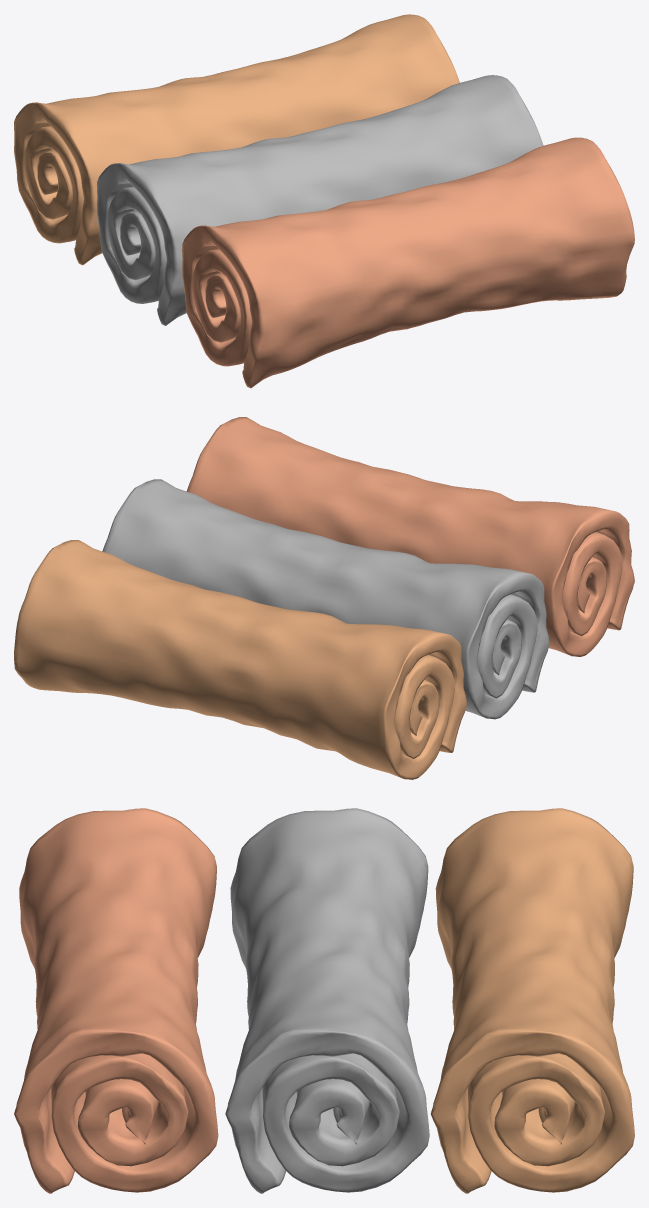
Rendered from towels.FBX.
3 renders of one model, top to bottom at view 1: azimuth 30°, elevation 25°; view 2: azimuth 150°, elevation 25°; view 3: azimuth 270°, elevation 25°, orthographic. The views are drawn at different scales.
Parts seen in each view (by area): view 1: towels; view 2: towels; view 3: towels.
Boxes of the visible parts, x1,y1,x2,y2 form: towels: (14,14,634,388); towels: (14,417,634,779); towels: (14,808,634,1193).
Size of what is drawn, in the model's own units: 233 by 79.45 by 267.
